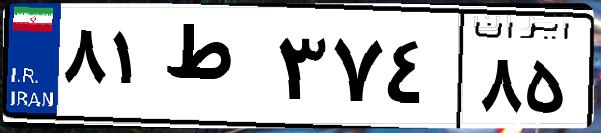1: (110, 28, 158, 98)
3: (270, 28, 330, 110)
4: (385, 28, 445, 110)
5: (525, 38, 570, 115)
7: (330, 28, 385, 110)
8: (57, 26, 110, 100), (475, 38, 525, 113)
ط: (158, 20, 270, 120)
